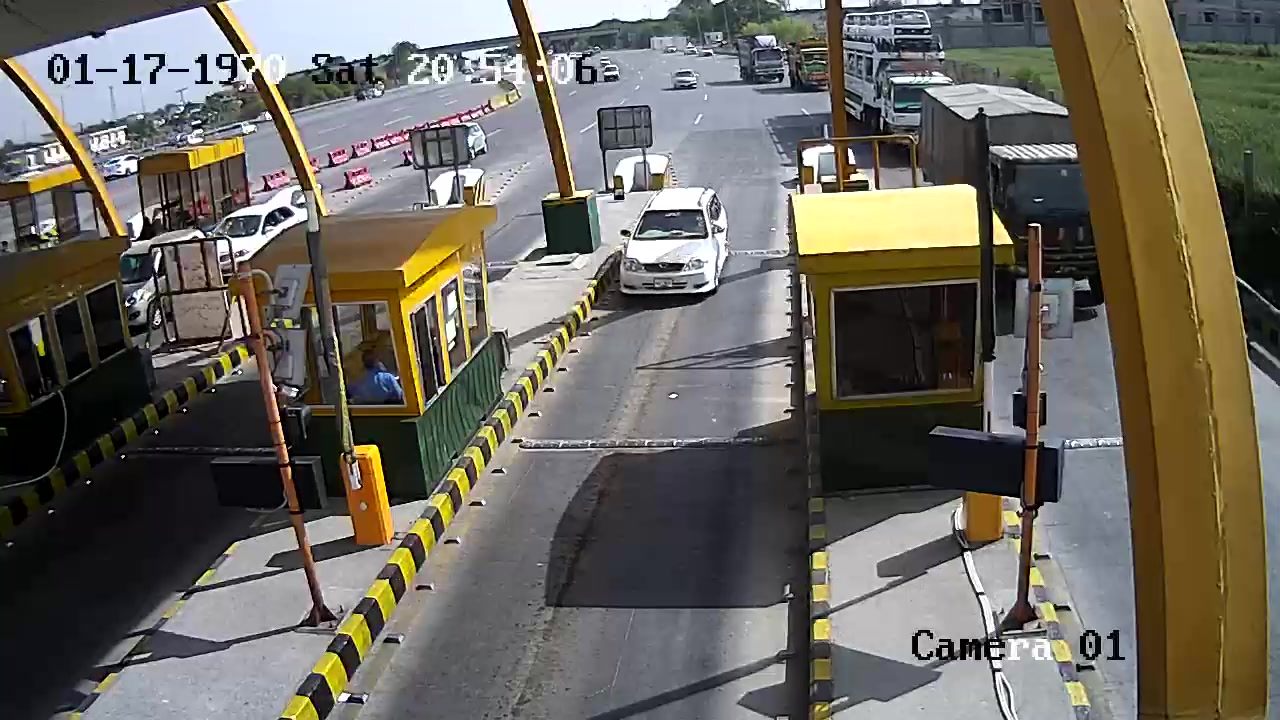F1: (614, 181, 738, 303)
